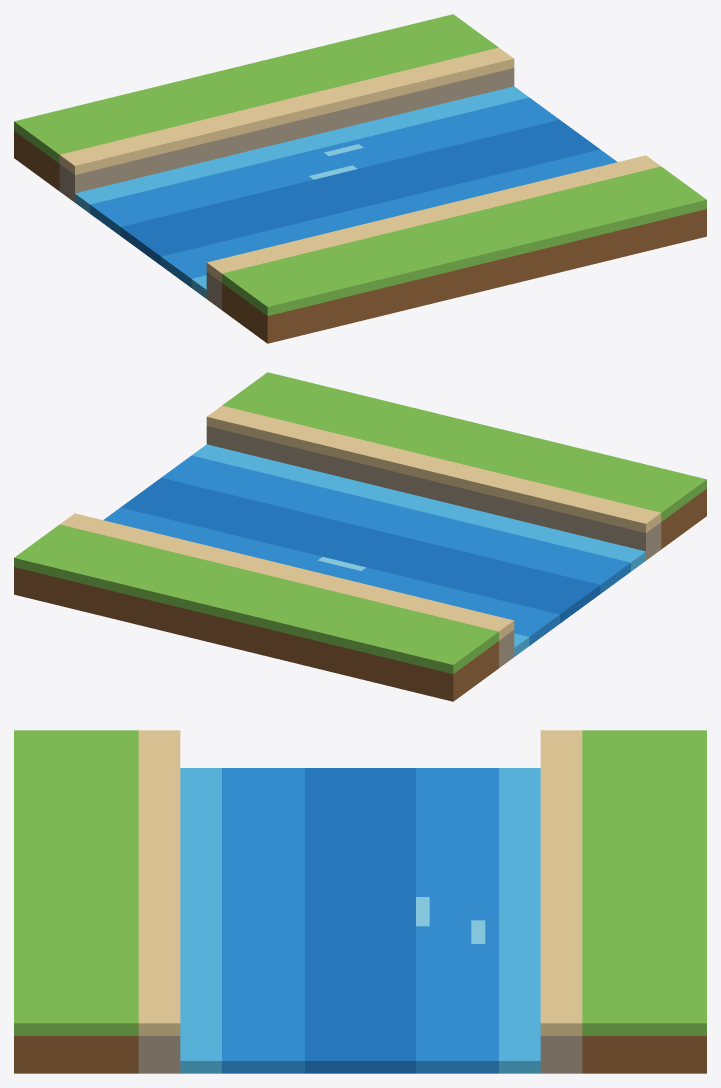
The model's file is river_straight_b.glb.
3 renders of one model, top to bottom at view 1: azimuth 30°, elevation 25°; view 2: azimuth 150°, elevation 25°; view 3: azimuth 270°, elevation 25°, orthographic. The views are drawn at different scales.
Visible parts, largest first — view 1: model_0; view 2: model_0; view 3: model_0.
Part boxes in pixels (left/top/right/bottom): model_0: left=14, top=14, right=706, bottom=343; model_0: left=14, top=372, right=706, bottom=701; model_0: left=14, top=730, right=706, bottom=1073.
Bounding box in the file's own units: 2 × 0.16 × 2.
